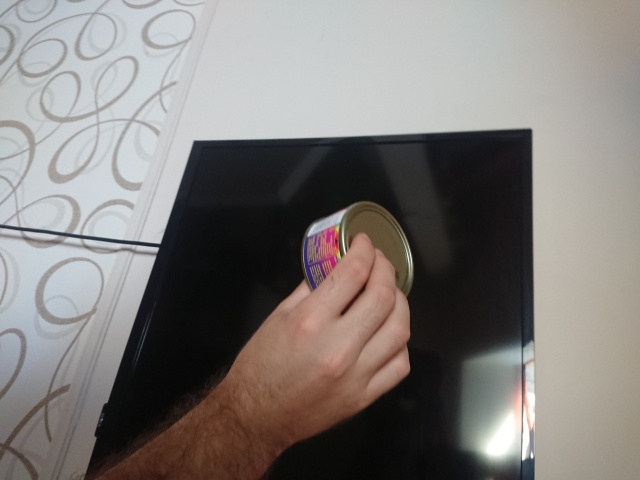Giana Tuna Salad Mexico 185g: (298, 196, 417, 326)
